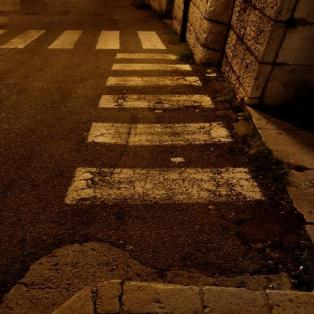Paso de Cebra: (80, 90, 241, 154), (107, 51, 199, 73)
